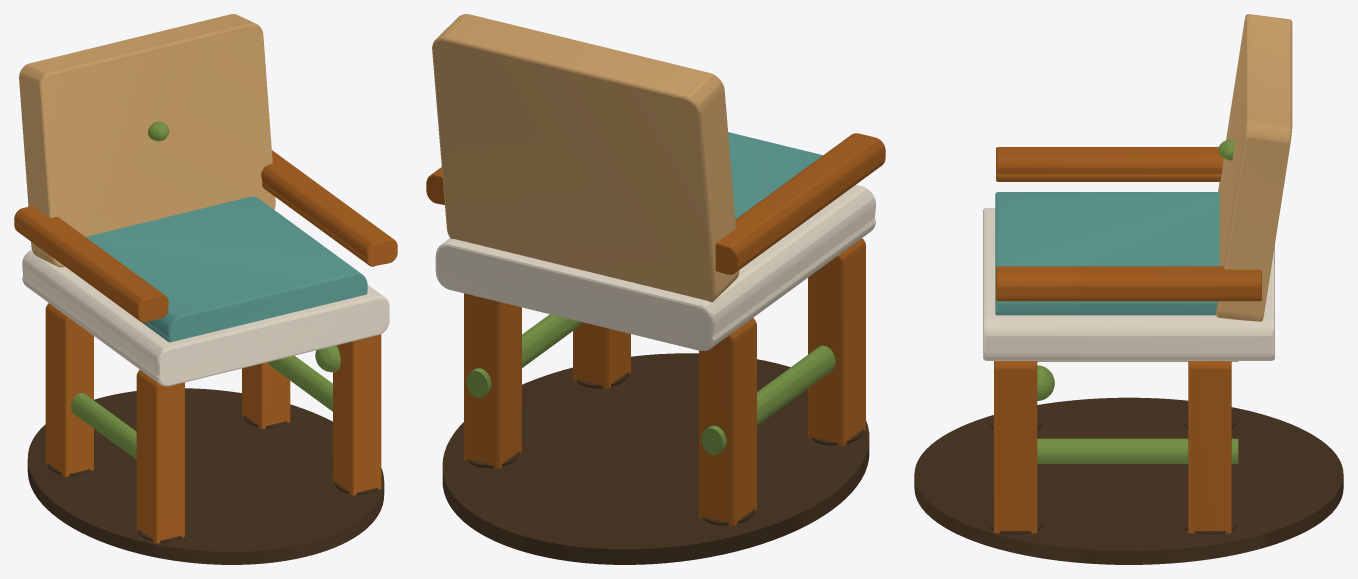
File: 1339_城市运转图鉴_城市沙盘.glb
3 renders of one model, left to right at view 1: azimuth 30°, elevation 25°; view 2: azimuth 150°, elevation 25°; view 3: azimuth 270°, elevation 25°, orthographic. The views are drawn at different scales.
Parts seen in each view (by area): view 1: card_1339; view 2: card_1339; view 3: card_1339.
Part boxes in pixels (x1,y1,x2,y2): card_1339: [14, 14, 397, 564]; card_1339: [426, 14, 885, 564]; card_1339: [914, 14, 1343, 564].
Size of the model in its own units: 0.7775 by 1 by 0.9193.
